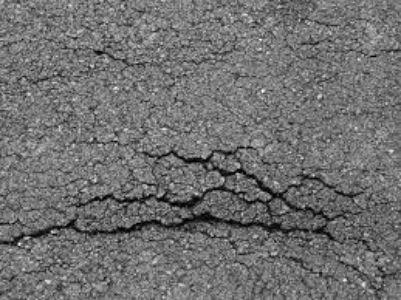alligator-crack: (3, 139, 392, 270)
